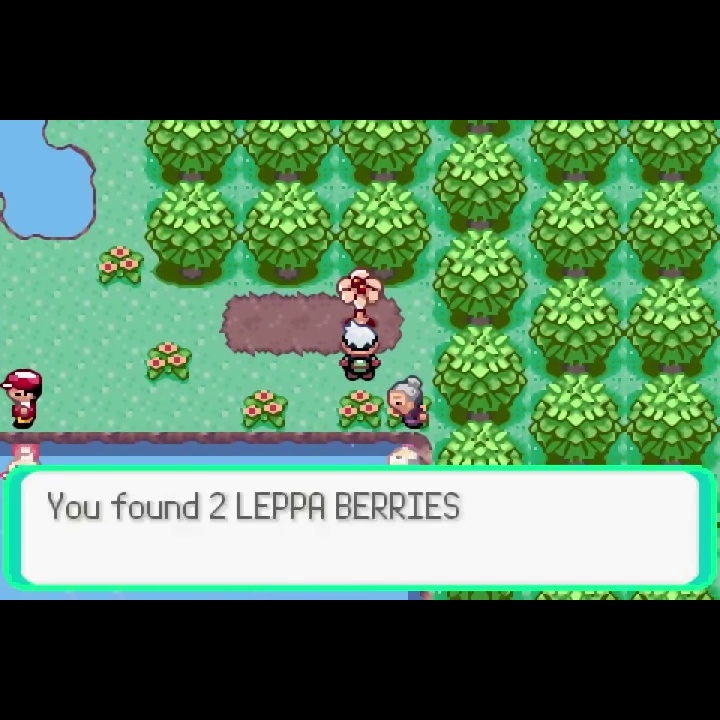npc: (338, 319, 382, 384), (1, 366, 44, 432), (385, 374, 430, 430)
wall: (241, 179, 342, 293), (339, 180, 434, 295), (144, 180, 240, 291), (430, 325, 529, 422), (434, 133, 529, 233), (529, 276, 626, 373), (434, 230, 529, 326), (530, 371, 626, 466), (625, 277, 720, 373), (530, 181, 624, 278), (625, 181, 720, 276), (626, 372, 720, 465), (528, 120, 624, 184), (625, 119, 720, 182), (144, 119, 240, 181), (240, 120, 339, 180), (340, 121, 434, 180), (433, 420, 530, 464), (435, 121, 528, 143)
